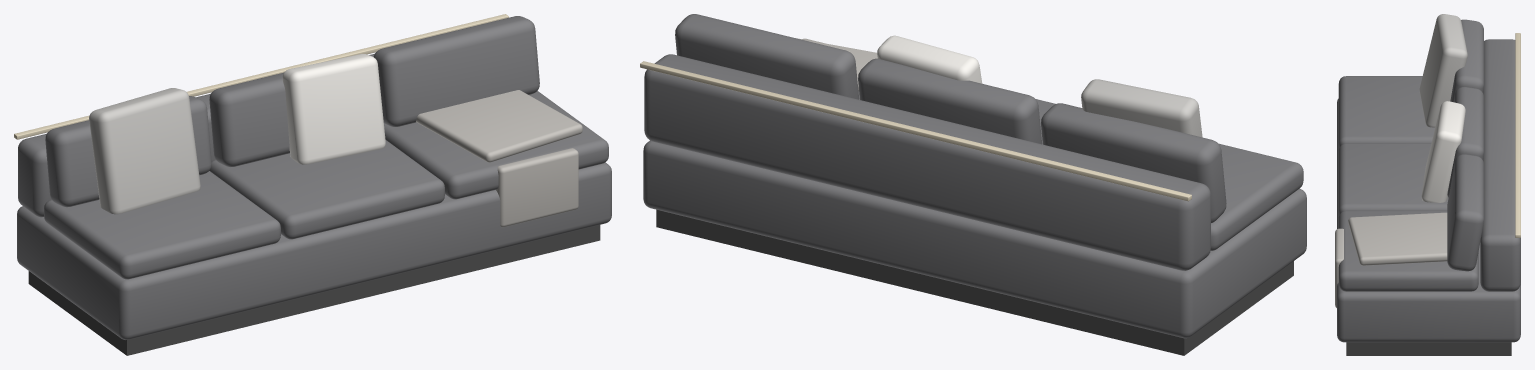
The model's file is it_sofa.glb.
3 views of the same model, side by side, from view 1: azimuth 30°, elevation 25°; view 2: azimuth 150°, elevation 25°; view 3: azimuth 270°, elevation 25° (orthographic). The views are drawn at different scales.
Visible parts, largest first — view 1: body, seat0, seat1, cush2, pillowA, pillowB, plinth, throw, seat2, cush1, throwdrop, cush0 (+2 smaller); view 2: back, body, plinth, cush0, cush2, cush1, seat0, backtrim, pillowA, pillowB, throw; view 3: body, back, seat1, seat0, seat2, throw, cush2, pillowA, pillowB, plinth, cush1, cush0 (+2 smaller).
Boxes of the visible parts, <box> form: body: <box>17,162,611,339</box>; seat0: <box>44,171,280,279</box>; seat1: <box>209,140,444,239</box>; cush2: <box>373,16,539,126</box>; pillowA: <box>89,88,200,214</box>; pillowB: <box>282,54,385,164</box>; plinth: <box>28,225,600,355</box>; throw: <box>416,90,582,162</box>; seat2: <box>384,91,608,199</box>; cush1: <box>209,72,289,166</box>; throwdrop: <box>496,148,578,227</box>; cush0: <box>45,96,211,207</box>; back: <box>644,54,1210,270</box>; body: <box>643,140,1306,338</box>; plinth: <box>656,209,1293,355</box>; cush0: <box>1041,103,1226,222</box>; cush2: <box>675,14,859,99</box>; cush1: <box>858,58,1041,144</box>; seat0: <box>1210,143,1303,250</box>; backtrim: <box>640,61,1191,201</box>; pillowA: <box>1081,79,1202,137</box>; pillowB: <box>877,35,982,83</box>; throw: <box>795,38,877,90</box>; body: <box>1337,98,1520,342</box>; back: <box>1480,39,1520,291</box>; seat1: <box>1338,143,1448,216</box>; seat0: <box>1338,76,1435,149</box>; seat2: <box>1338,210,1478,291</box>; throw: <box>1348,212,1447,265</box>; cush2: <box>1447,154,1483,271</box>; pillowA: <box>1419,14,1467,127</box>; pillowB: <box>1421,101,1465,202</box>; plinth: <box>1346,342,1511,355</box>; cush1: <box>1447,87,1483,197</box>; cush0: <box>1450,19,1483,101</box>.
Bounding box in the file's own units: 2.6 × 0.9713 × 1.01.
